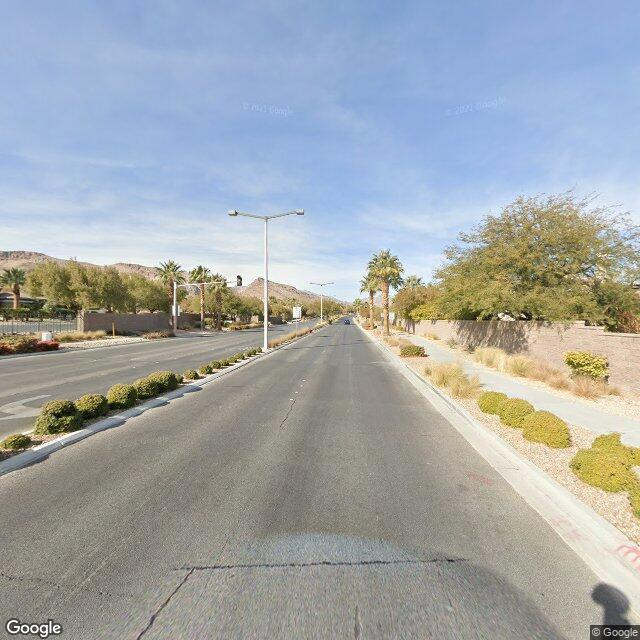pothole: (275, 394, 298, 431)
